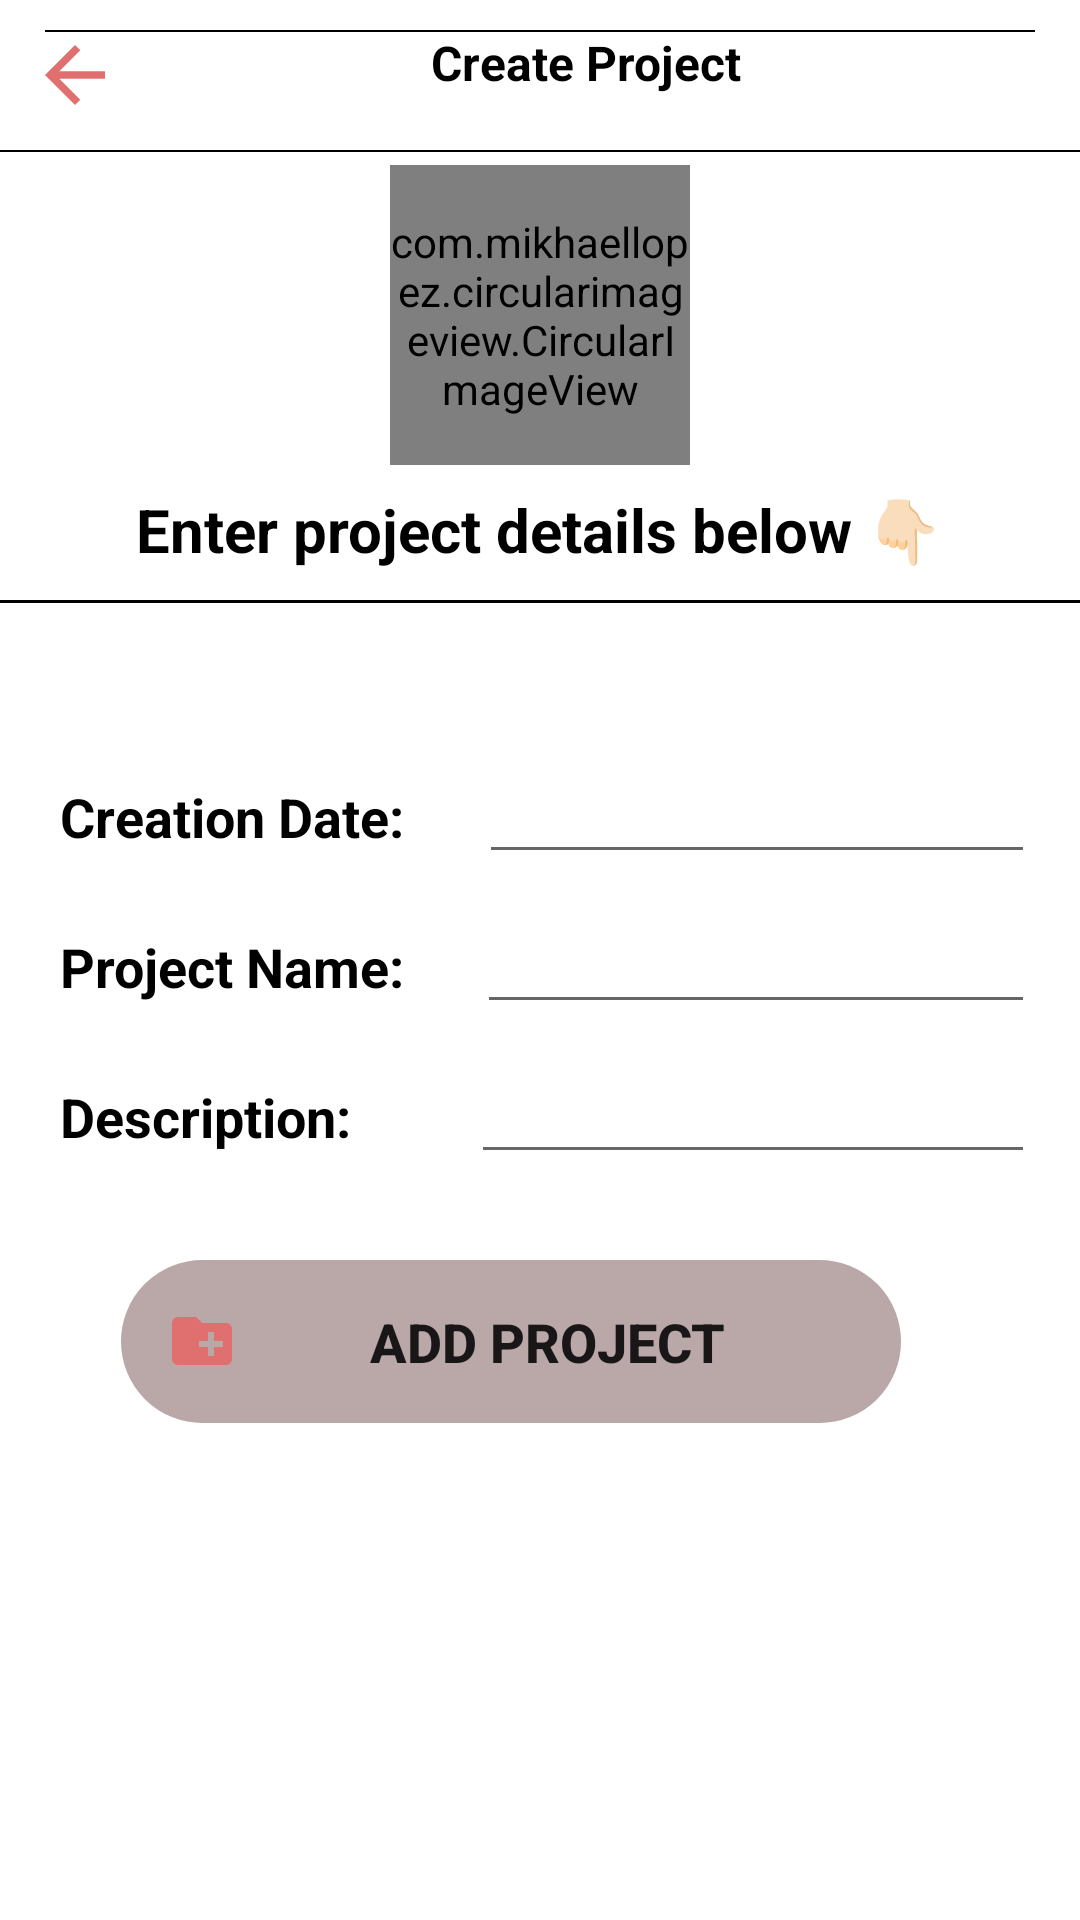

Icons on this 1080×1920 Android screen, each with its box as (x1, y1, x2, y2):
arrow bacl: (45, 45, 105, 105)
